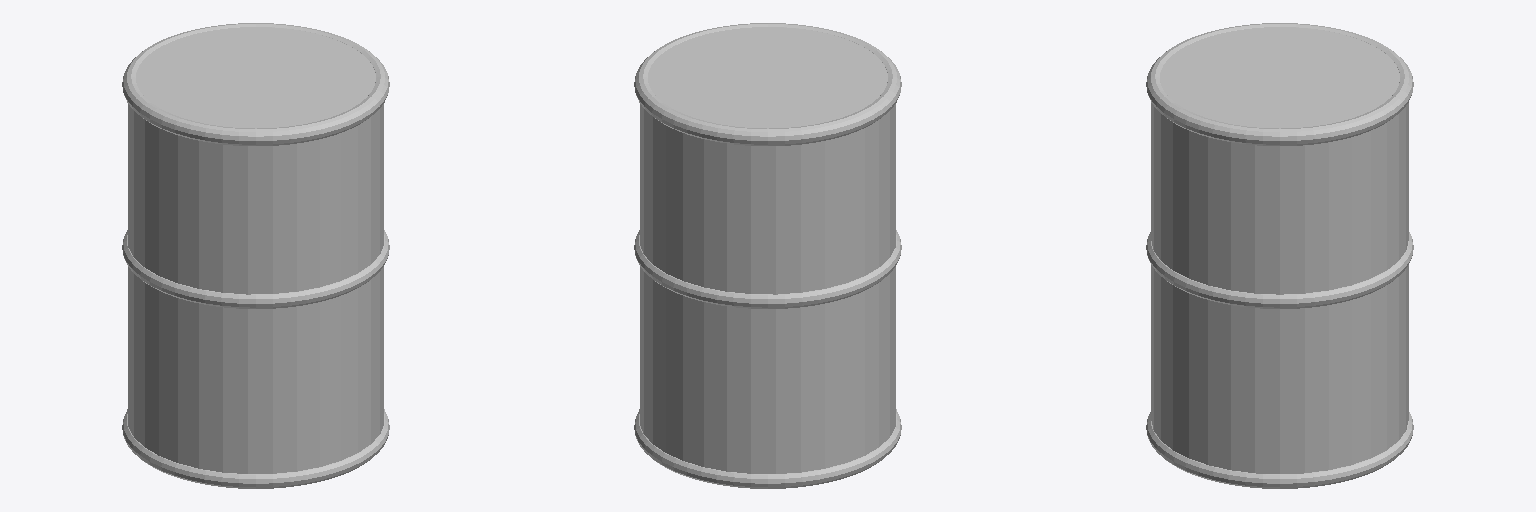
File: OilDrum.obj
3 views of the same model, side by side, from view 1: azimuth 30°, elevation 25°; view 2: azimuth 150°, elevation 25°; view 3: azimuth 270°, elevation 25° (orthographic).
Visible parts, largest first — view 1: Cylinder_Cylinder.002, Torus.001, Torus.003_Torus.004, Torus.002_Torus.003; view 2: Cylinder_Cylinder.002, Torus.001, Torus.003_Torus.004, Torus.002_Torus.003; view 3: Cylinder_Cylinder.002, Torus.001, Torus.003_Torus.004, Torus.002_Torus.003.
Part boxes in pixels (x1,y1,x2,y2): Cylinder_Cylinder.002: (128,27,383,473); Torus.001: (122,23,389,145); Torus.003_Torus.004: (122,409,389,488); Torus.002_Torus.003: (122,230,389,308); Cylinder_Cylinder.002: (640,27,895,473); Torus.001: (634,23,901,145); Torus.003_Torus.004: (634,409,901,488); Torus.002_Torus.003: (634,230,901,308); Cylinder_Cylinder.002: (1151,27,1408,473); Torus.001: (1146,23,1413,145); Torus.003_Torus.004: (1146,412,1413,488); Torus.002_Torus.003: (1146,232,1413,308).
Size of the model in its own units: 2.08 by 3.08 by 2.08.